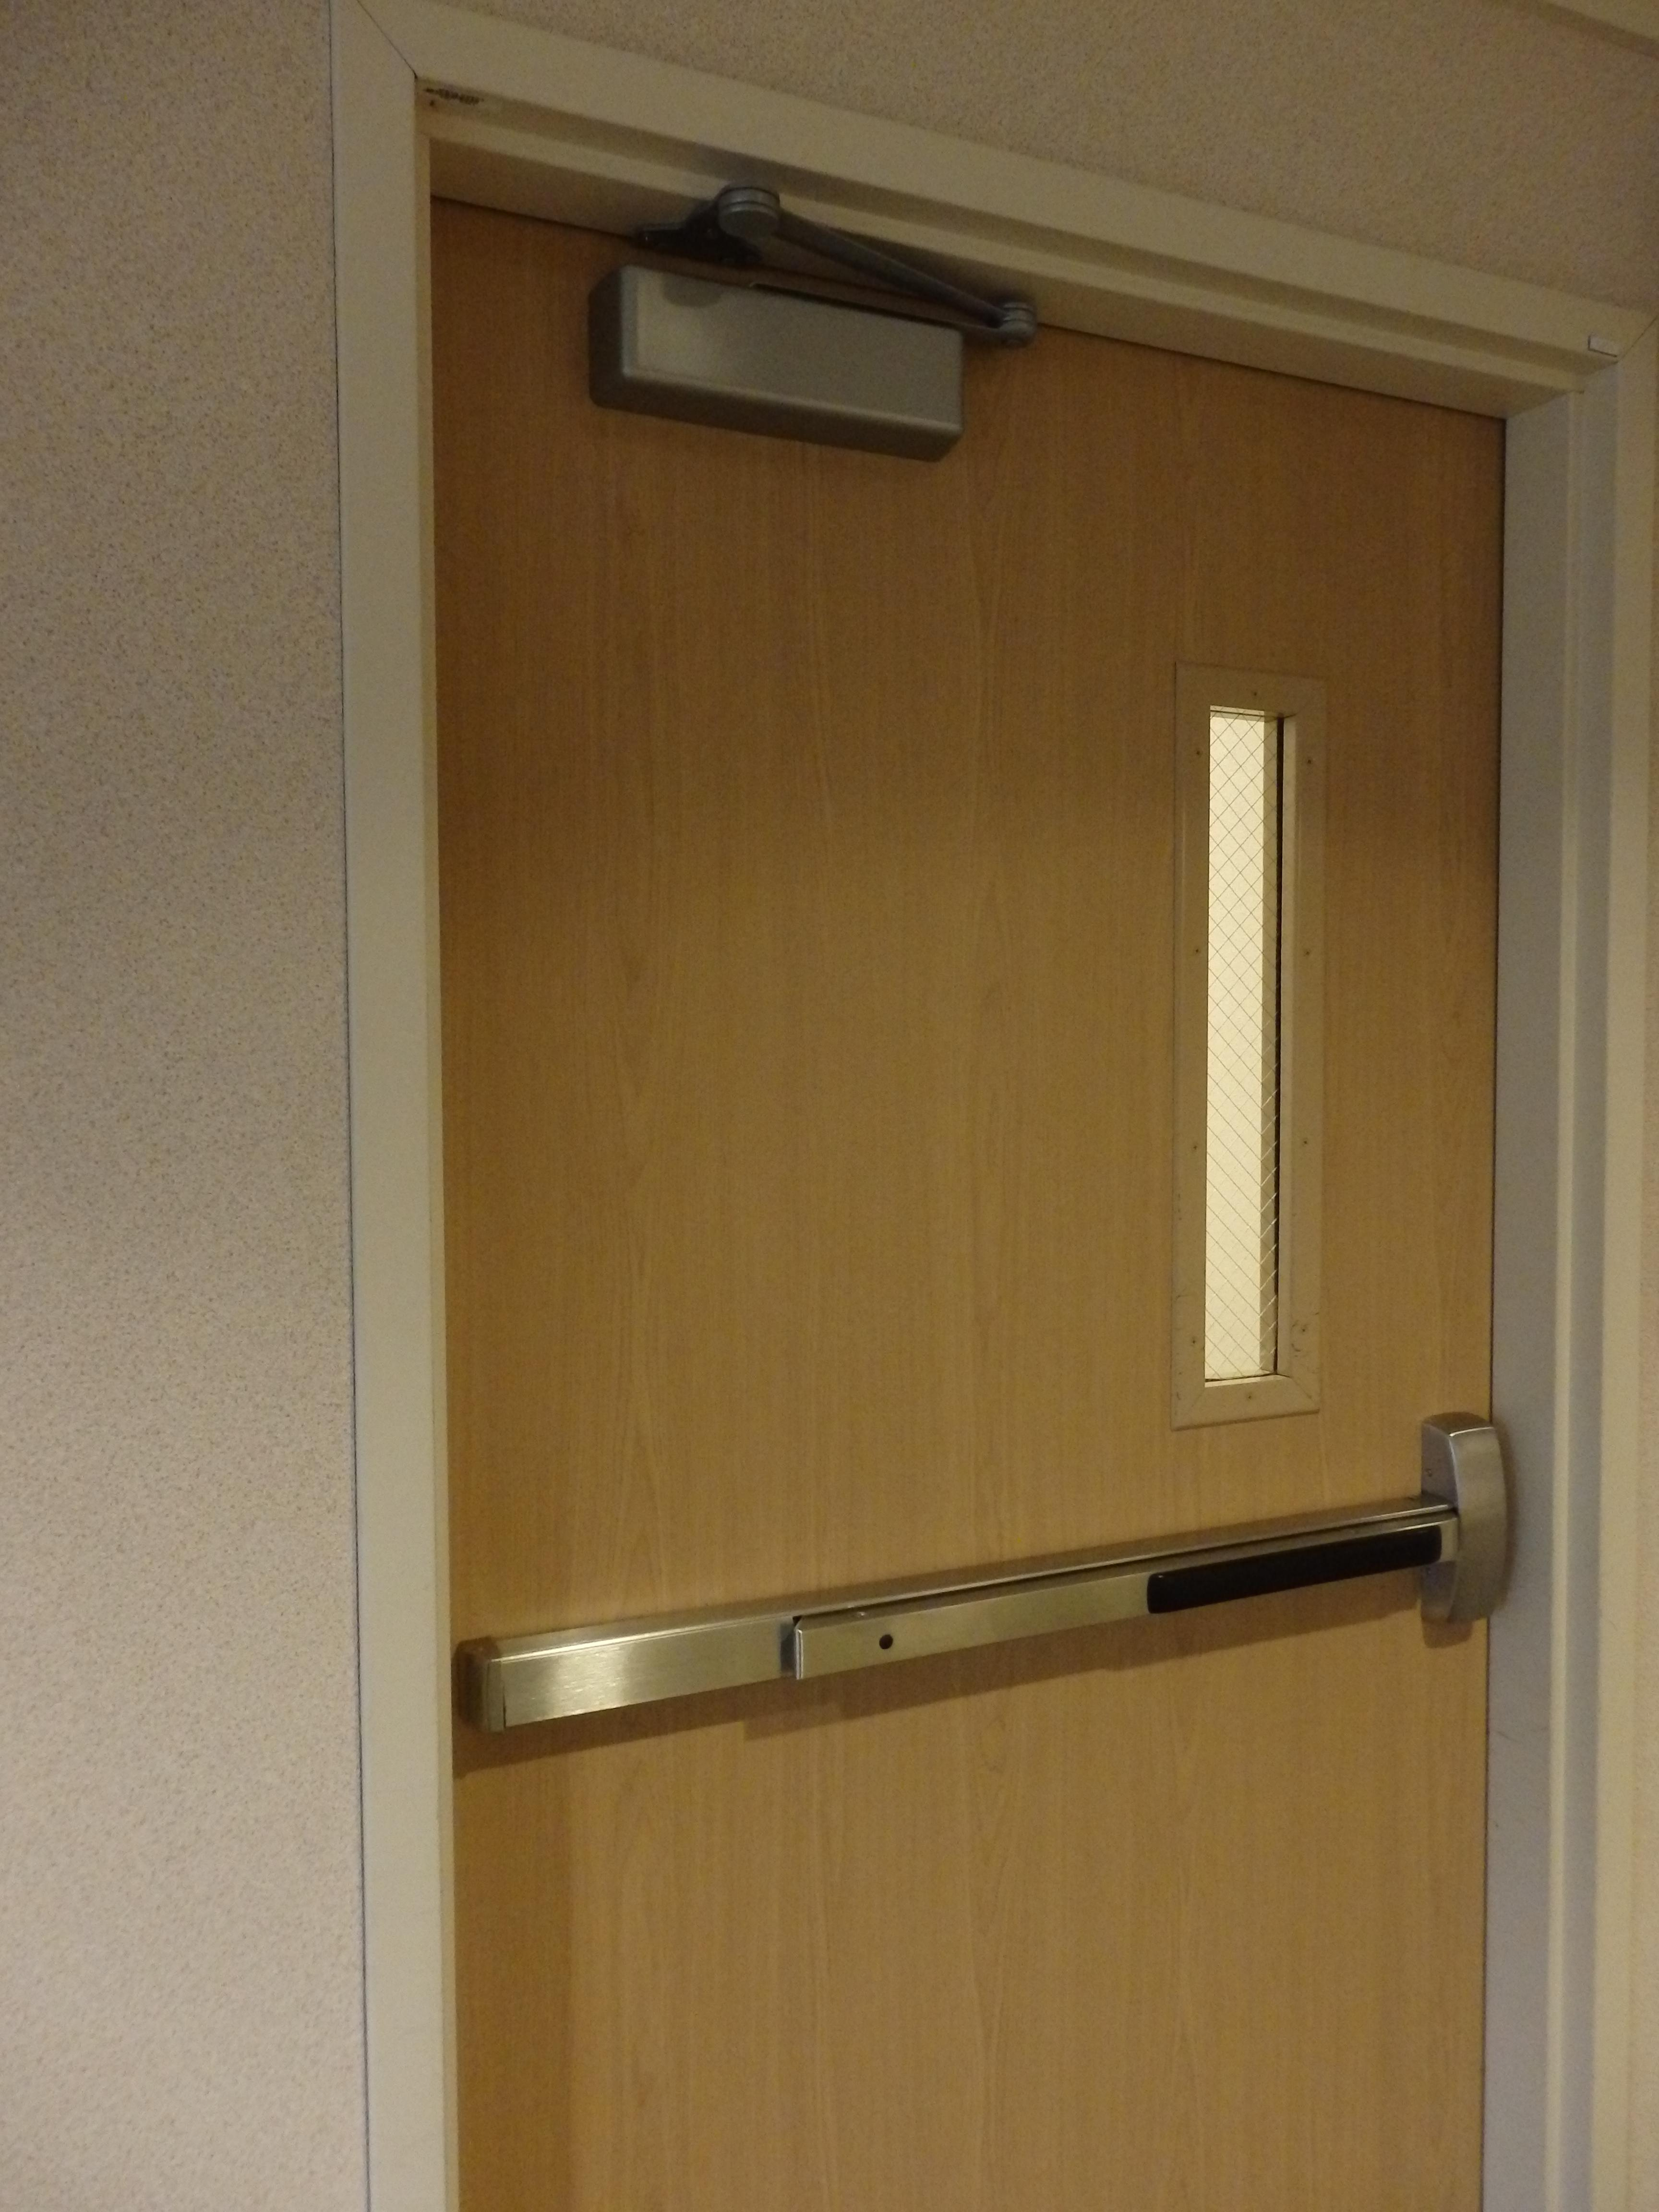door: (399, 158, 1516, 2212)
